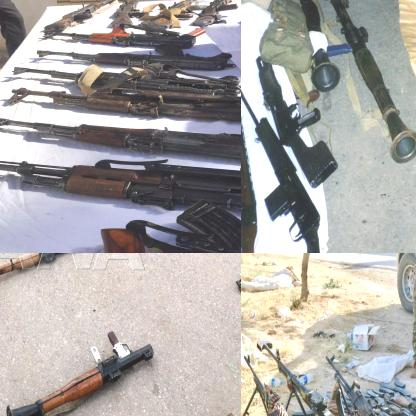rifle: (241, 87, 346, 252), (0, 143, 240, 213), (328, 0, 415, 167), (3, 328, 157, 415), (0, 200, 240, 252), (0, 112, 240, 157), (256, 57, 337, 189), (8, 84, 240, 125), (280, 0, 346, 96), (259, 338, 338, 415), (36, 48, 240, 74), (241, 65, 266, 252), (328, 353, 394, 415), (4, 68, 240, 85), (242, 352, 303, 415), (45, 27, 205, 50), (0, 253, 83, 295), (44, 0, 129, 32), (109, 0, 153, 29), (200, 0, 240, 26), (166, 0, 209, 19)
